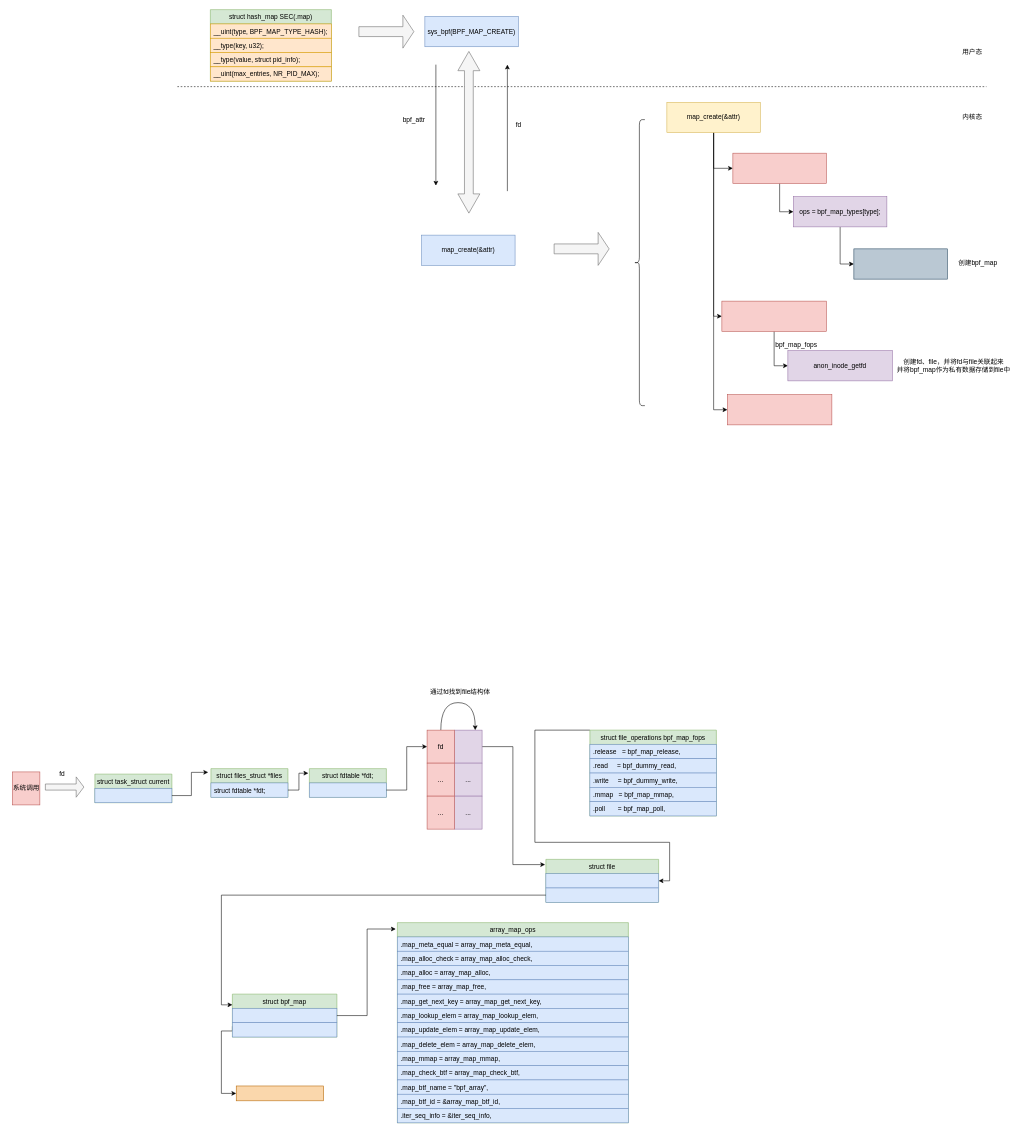
Some shapes in this 1023 by 1134 pixel diagram are drawn without their labels. The centre of each missing label's shape, as x and y in pixels:
"bpf_map_new_fd(map, f_flags);" goes at point 773,316.
"BPF_MAP_TYPE_ARRAY" goes at point 280,1093.
"const struct bpf_map_ops *ops;" goes at point 284,1015.
"const struct file_operations *f_op;" goes at point 602,880.
"enum bpf_map_type map_type;" goes at point 284,1029.
"file" goes at point 468,746.
"files" goes at point 133,795.
"find_and_alloc_map" goes at point 779,168.
"ops->map_alloc(attr);" goes at point 900,263.
"struct file __rcu **fd;" goes at point 347,789.
"void *private_data;" goes at point 602,894.
"将fd返回用户态" goes at point 779,409.
